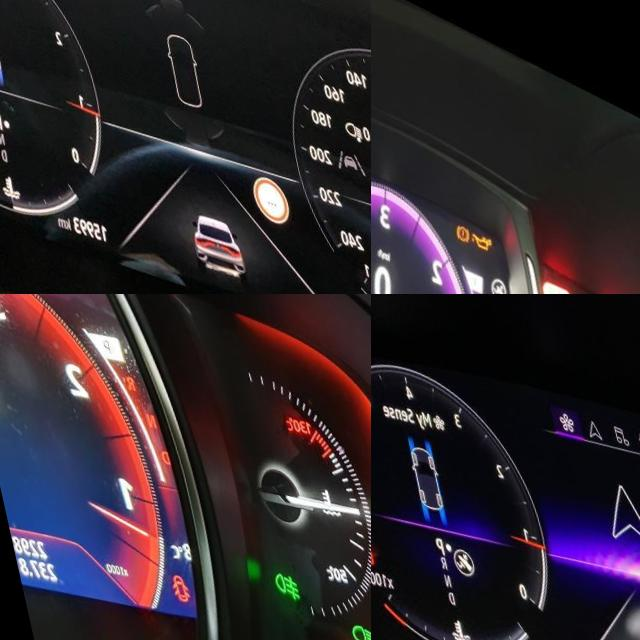Doors: (147, 562, 170, 594)
FrontFogLight: (254, 555, 282, 588)
Low beam: (329, 602, 357, 632)
SideLamp: (359, 466, 371, 490)
